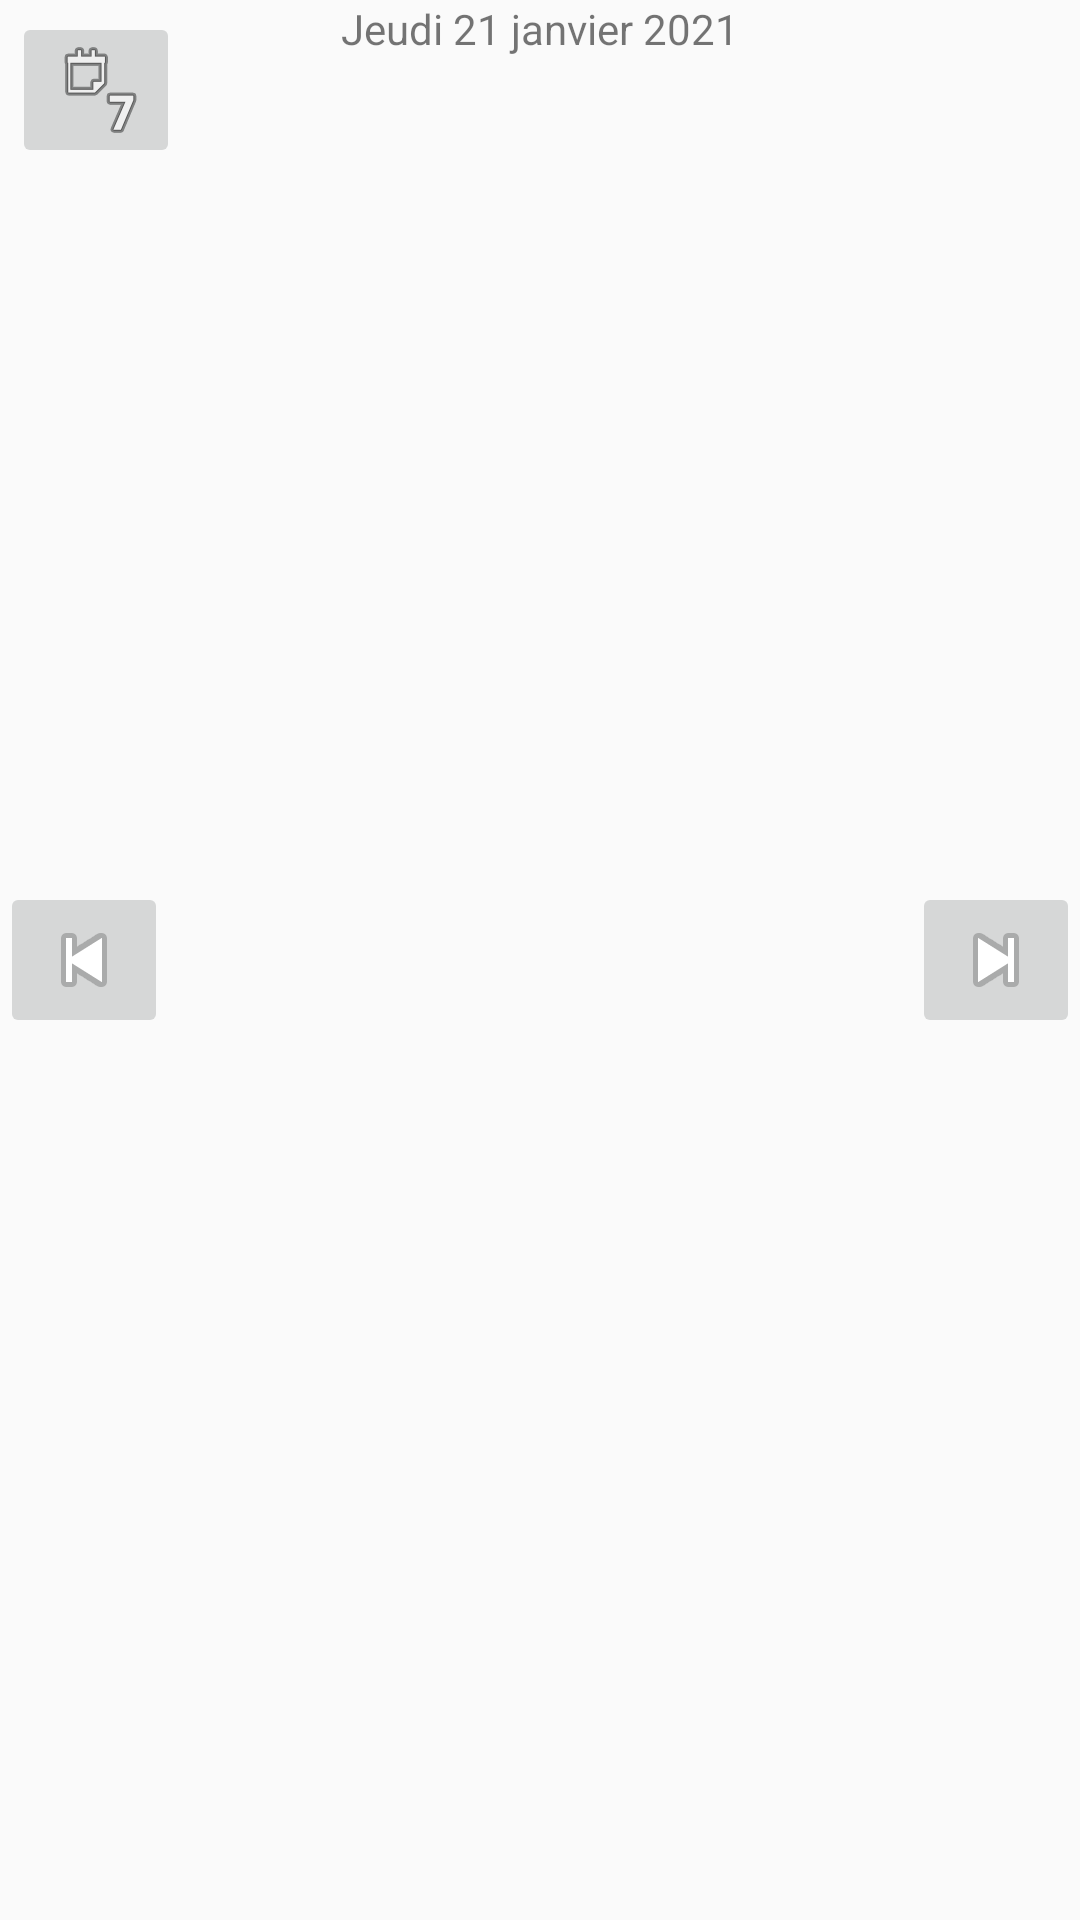

Named icons in this screenshot (1080 × 1920) and their centers, (x,y):
next: (996,960)
previous: (84,960)
week: (96,90)
